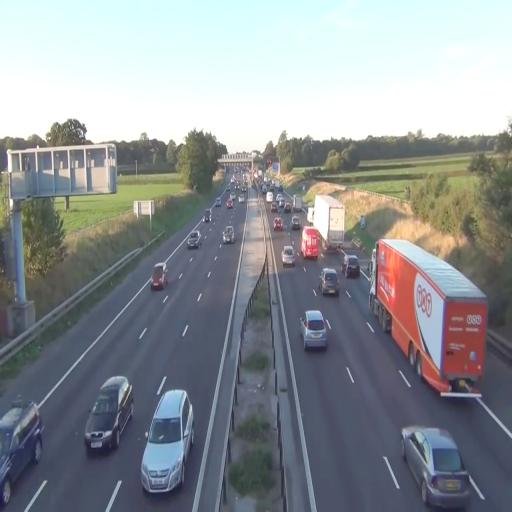vehicle: (368, 236, 488, 400), (400, 425, 474, 509), (140, 388, 194, 494), (0, 400, 43, 508), (83, 376, 134, 455), (313, 194, 345, 253), (313, 193, 345, 251), (300, 309, 330, 352), (301, 224, 322, 260), (318, 267, 339, 298), (343, 254, 360, 279), (151, 264, 167, 290), (282, 244, 295, 267), (187, 230, 201, 249), (223, 224, 234, 244), (273, 214, 284, 234)
